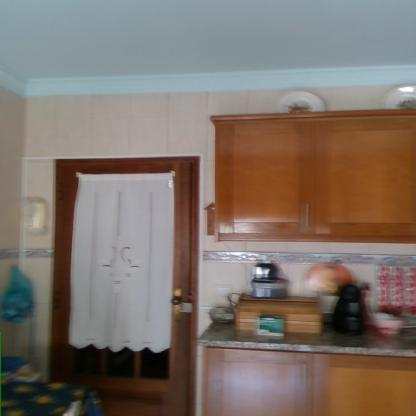door: (61, 164, 194, 415)
hinged: (53, 292, 60, 310), (58, 183, 64, 201)
knob: (171, 295, 182, 307)
